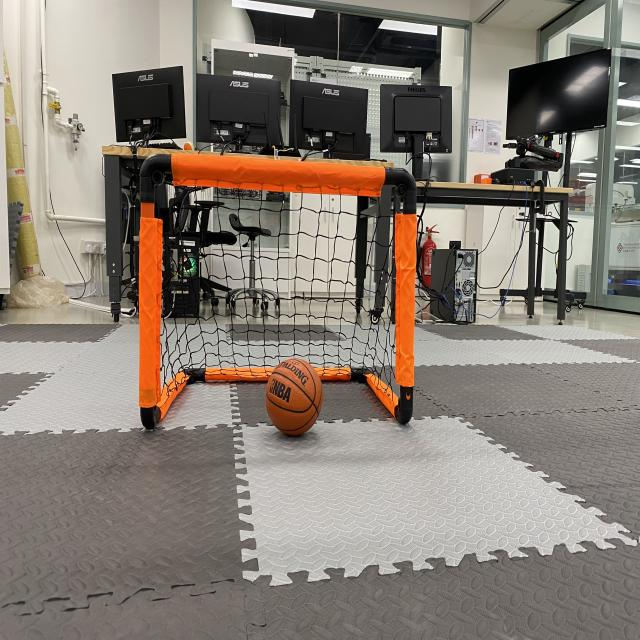ball: (262, 352, 327, 441)
gate: (133, 146, 421, 437)
